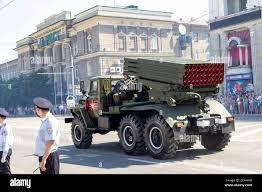MIL_SAM_TEL: (68, 56, 234, 160)
